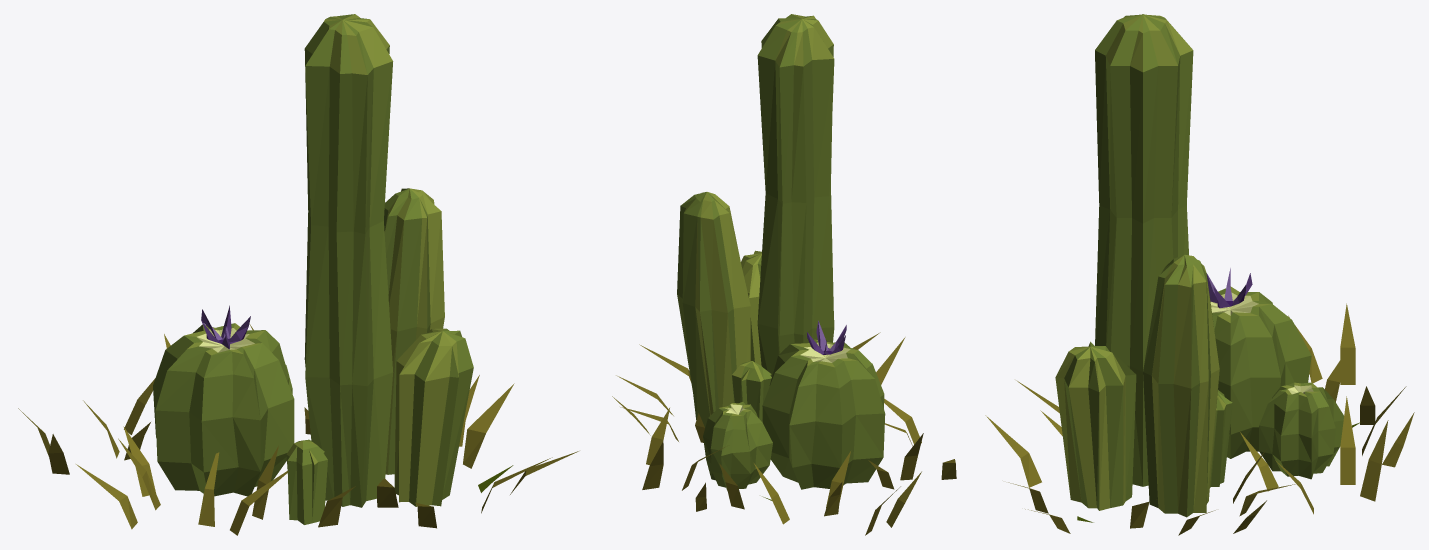
The model's file is cactus.gltf.
3 views of the same model, side by side, from view 1: azimuth 30°, elevation 25°; view 2: azimuth 150°, elevation 25°; view 3: azimuth 270°, elevation 25° (orthographic). The views are drawn at different scales.
Bounding box in the file's own units: 205 × 230 × 196.
Materials: 1 (1 with a texture image).
